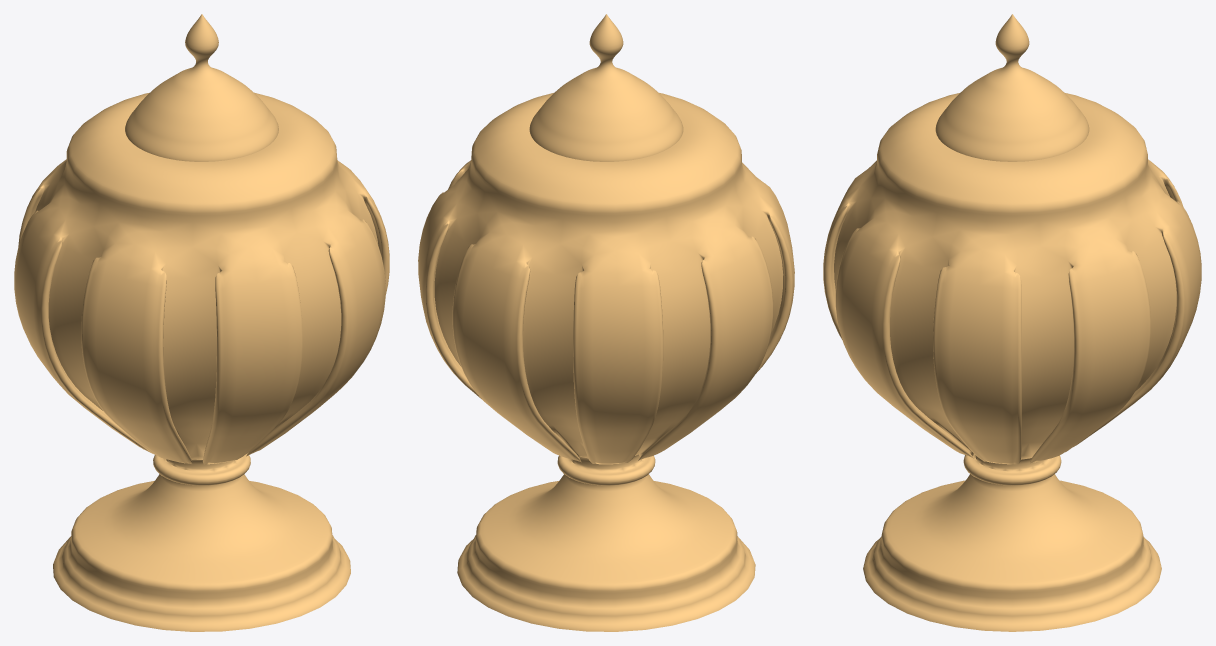
File: urn.glb
3 views of the same model, side by side, from view 1: azimuth 30°, elevation 25°; view 2: azimuth 150°, elevation 25°; view 3: azimuth 270°, elevation 25° (orthographic).
Visible parts, largest first — view 1: base, top; view 2: base, top; view 3: base, top.
Part boxes in pixels (<box>): base: <box>14,92,389,631</box>; top: <box>125,14,278,161</box>; base: <box>418,93,794,631</box>; top: <box>529,14,683,161</box>; base: <box>823,93,1201,631</box>; top: <box>935,14,1089,161</box>.
Bounding box in the file's own units: 1.57 × 2.56 × 1.57.
